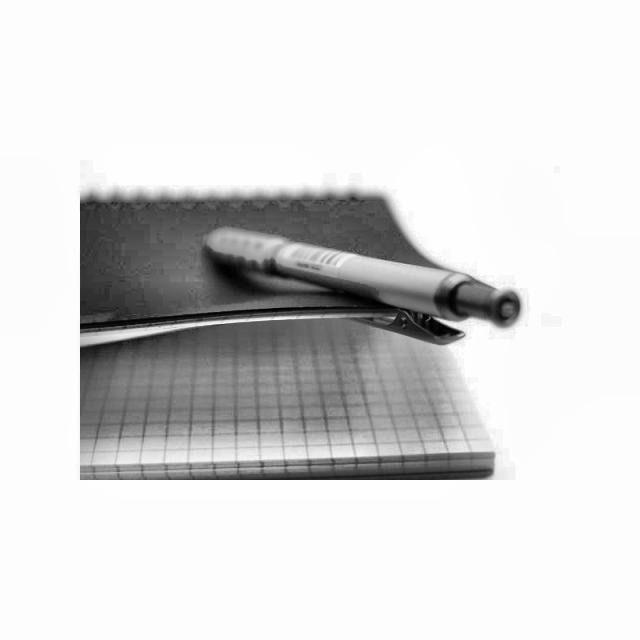Notebook: (66, 190, 512, 492)
Pen: (192, 215, 534, 352)
